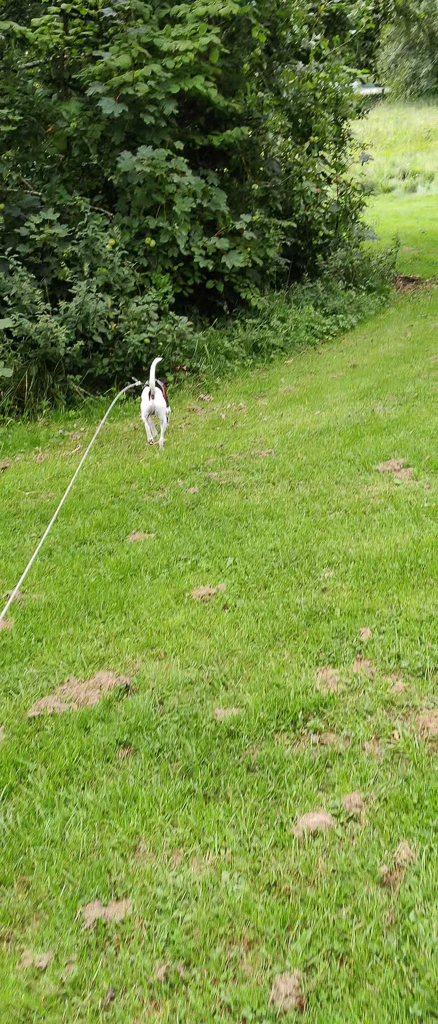Dog: (126, 350, 187, 458)
